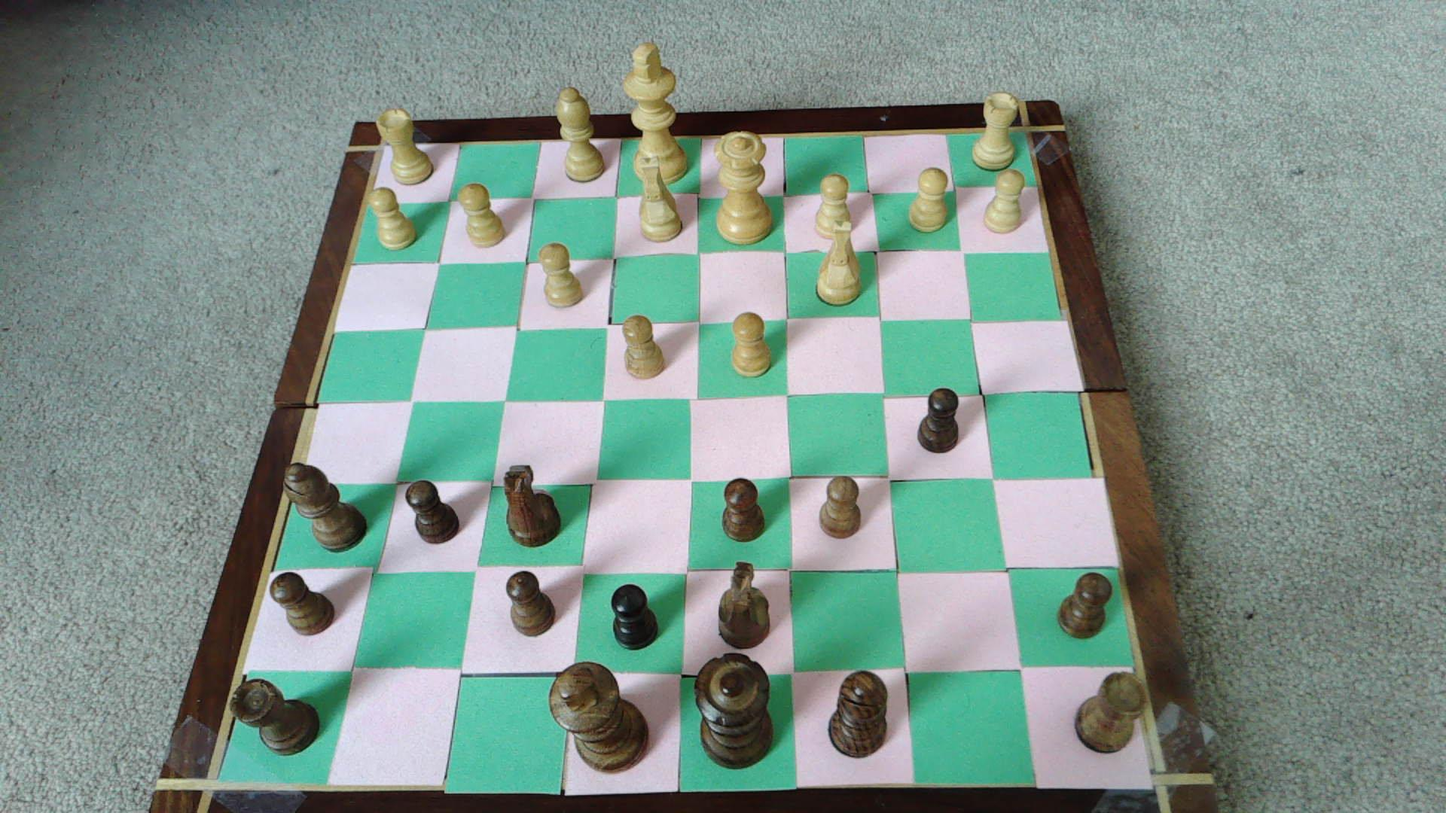dark_piece: (550, 662, 647, 770), (695, 654, 772, 767), (285, 463, 366, 550), (232, 679, 319, 754), (1075, 672, 1147, 752), (829, 671, 888, 757), (503, 465, 560, 547), (718, 562, 769, 648), (270, 572, 335, 635), (1058, 572, 1110, 638), (406, 480, 459, 543), (506, 571, 555, 635), (611, 584, 659, 649), (722, 478, 765, 540), (918, 387, 958, 452), (819, 477, 861, 537)
white_piece: (622, 41, 688, 183), (715, 133, 773, 244), (555, 87, 605, 181), (377, 108, 435, 185), (634, 156, 683, 242), (972, 92, 1018, 170), (816, 228, 860, 305), (459, 183, 507, 248), (370, 187, 417, 250), (540, 242, 585, 307), (623, 315, 666, 379), (984, 169, 1026, 233), (731, 312, 772, 376), (909, 167, 949, 232), (814, 174, 854, 239)
